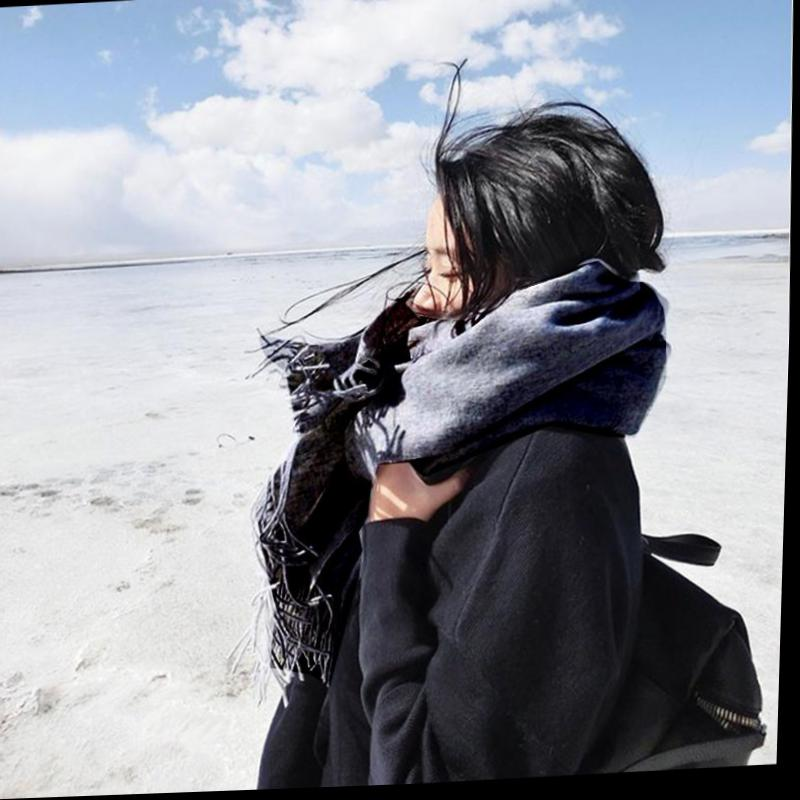WRONG: (409, 218, 532, 371)
